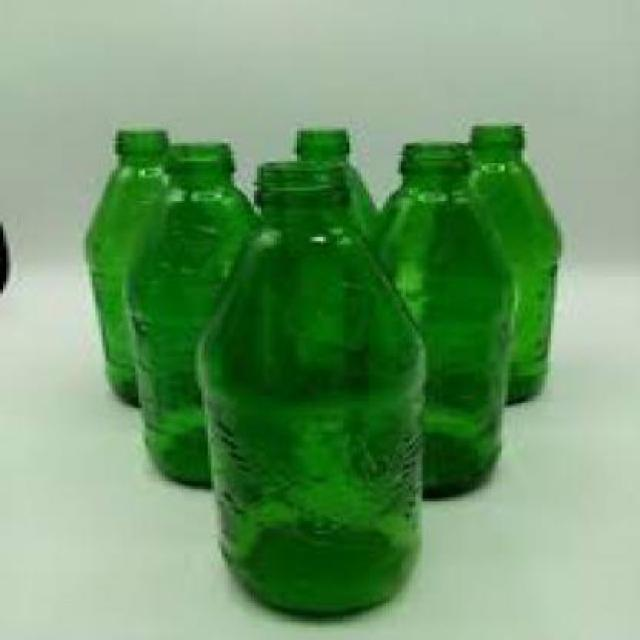kaca: (192, 158, 423, 617), (369, 140, 498, 497), (118, 142, 251, 488), (463, 122, 559, 403), (83, 128, 169, 403), (291, 126, 372, 229)
